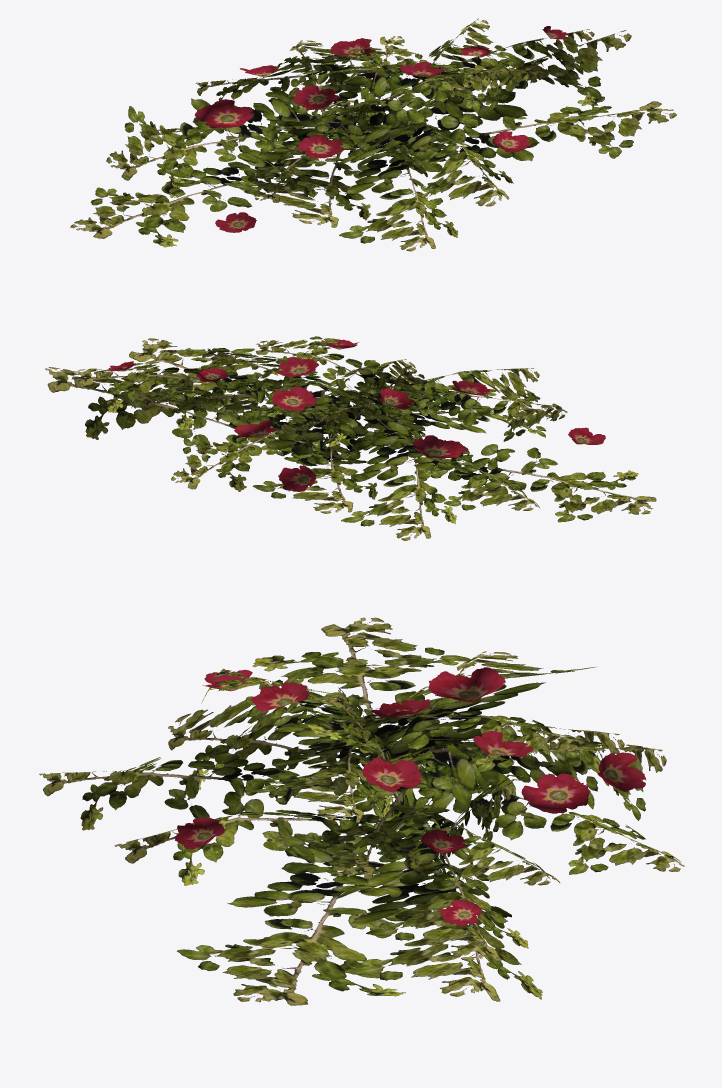
File: KM_VOB_FLOWERS_ON_THE_WALL_01.glb
3 renders of one model, top to bottom at view 1: azimuth 30°, elevation 25°; view 2: azimuth 150°, elevation 25°; view 3: azimuth 270°, elevation 25°, orthographic. The views are drawn at different scales.
Parts seen in each view (by area): view 1: Mesh; view 2: Mesh; view 3: Mesh.
Part boxes in pixels (bbox=[...]): Mesh: bbox=[70, 18, 676, 251]; Mesh: bbox=[45, 336, 656, 540]; Mesh: bbox=[39, 617, 684, 1005].
Bounding box in the file's own units: 1.42 × 0.2913 × 0.951.
Materials: 2 (2 with a texture image).
